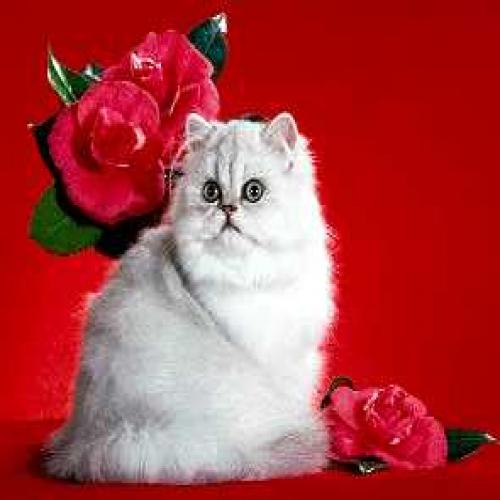persian: (158, 96, 330, 295)
